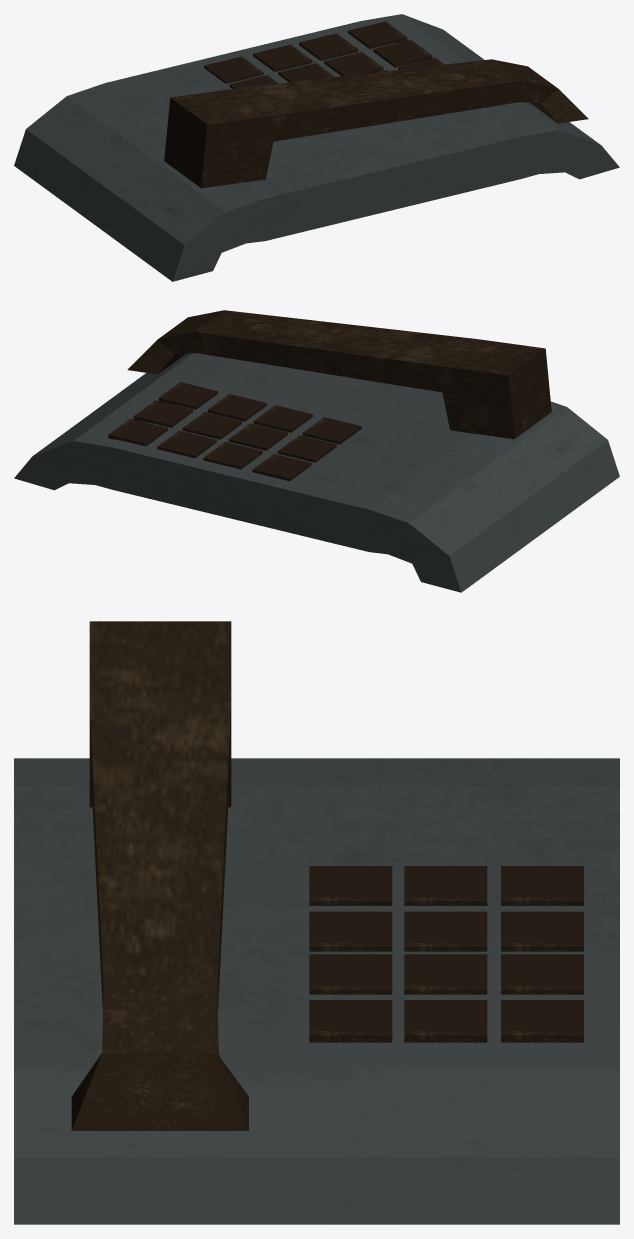
Rendered from phone.fbx.
The picture shows the model from 3 angles, top to bottom: view 1: azimuth 30°, elevation 25°; view 2: azimuth 150°, elevation 25°; view 3: azimuth 270°, elevation 25°; orthographic projection. The views are drawn at different scales.
Parts seen in each view (by area): view 1: Cube; view 2: Cube; view 3: Cube.
Boxes of the visible parts, x1=… form: Cube: x1=14, y1=14, x2=619, y2=281; Cube: x1=14, y1=310, x2=619, y2=592; Cube: x1=14, y1=621, x2=619, y2=1224.
Size of the model in its own units: 285 by 78.71 by 175.
Materials: 2 (2 with a texture image).
